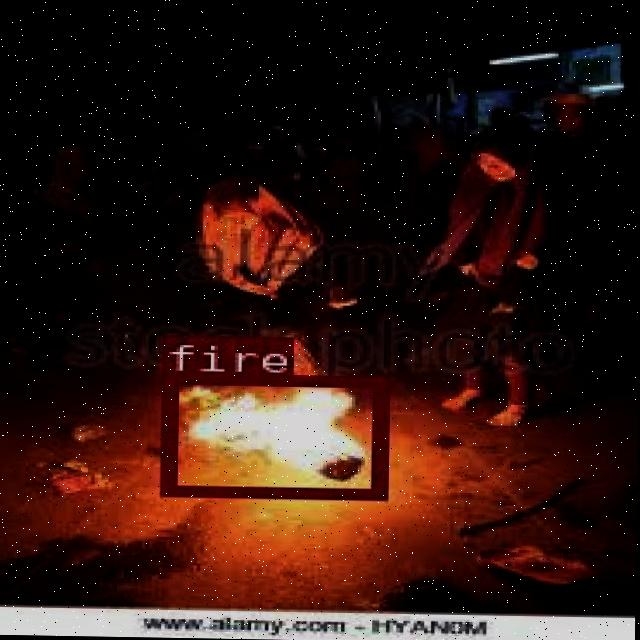fire: (157, 370, 384, 497)
